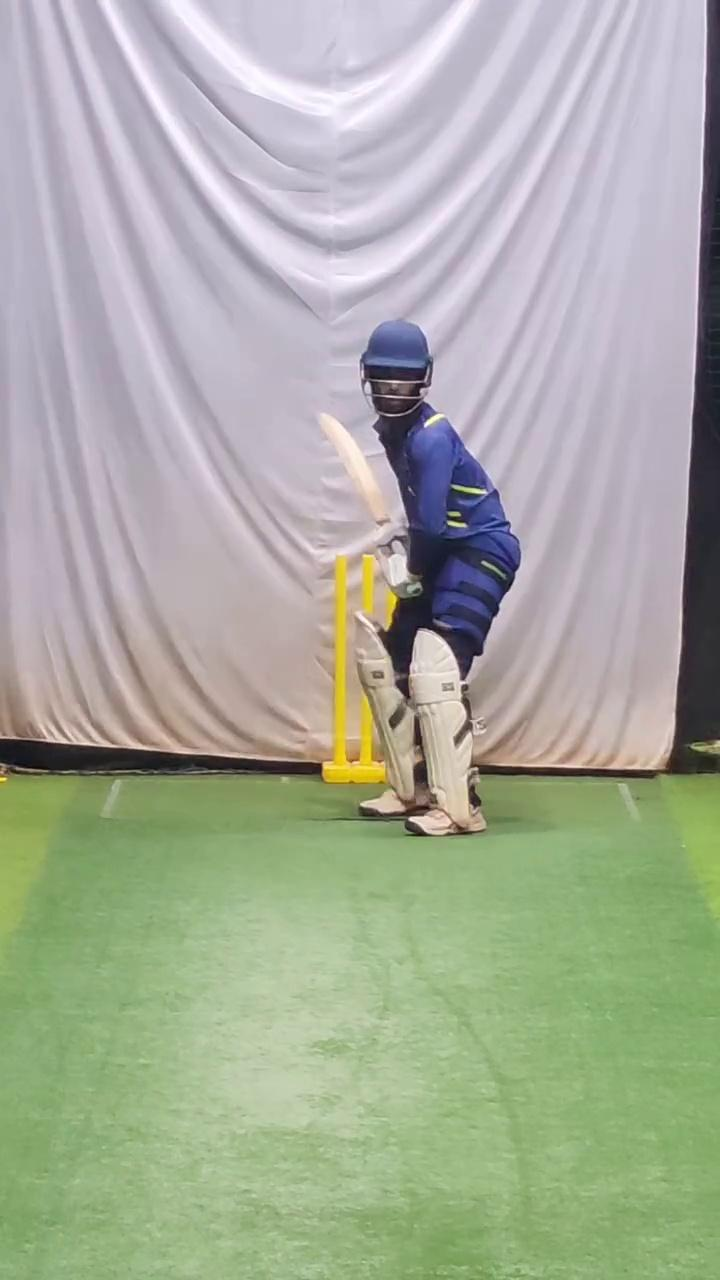bat: (313, 402, 397, 531)
